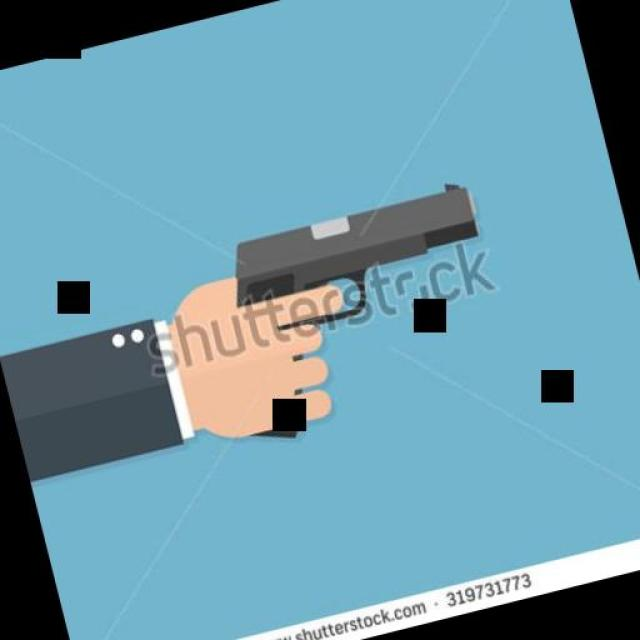gun: (187, 172, 512, 452)
